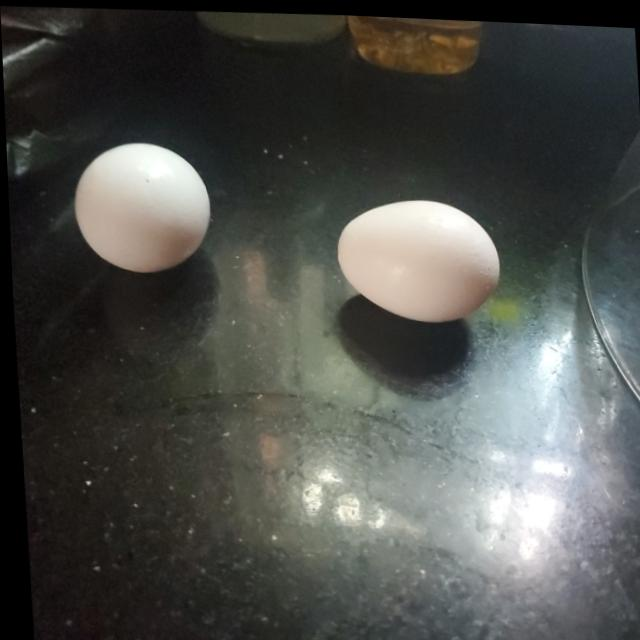egg: (332, 188, 501, 319), (66, 131, 212, 273)
